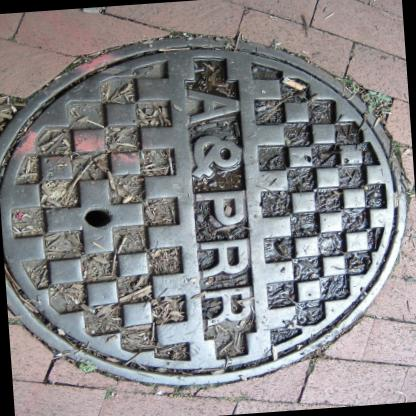manholes: (0, 18, 416, 410)
